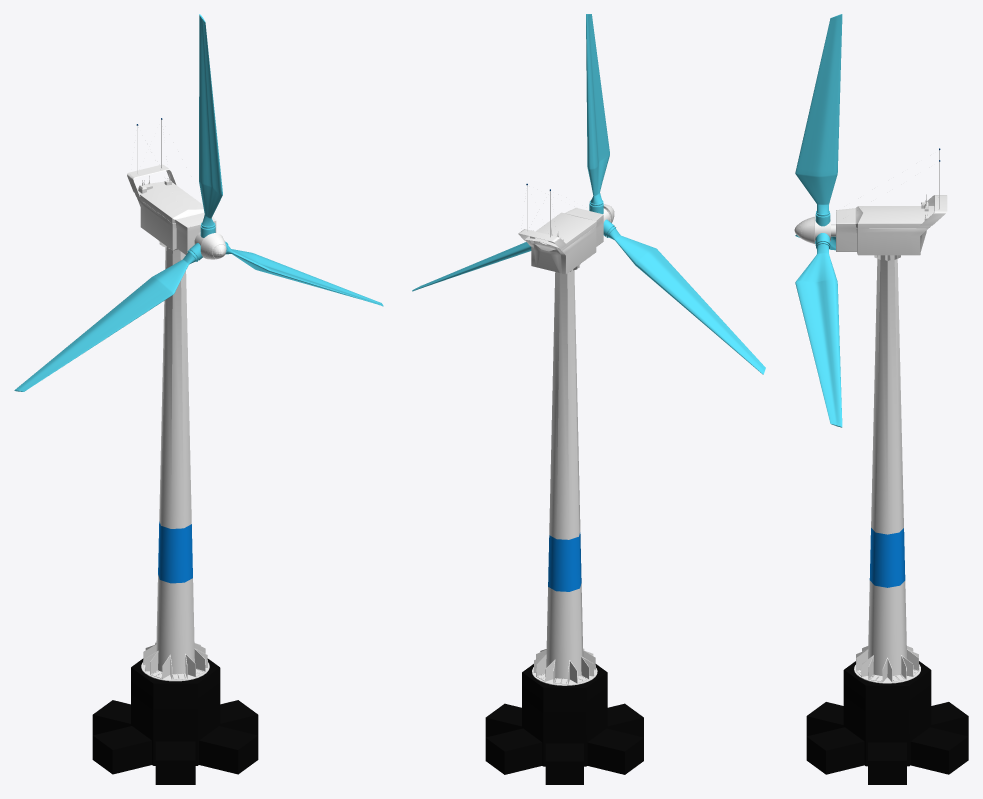
Rendered from turbine.gltf.
The picture shows the model from 3 angles, left to right: view 1: azimuth 30°, elevation 25°; view 2: azimuth 150°, elevation 25°; view 3: azimuth 270°, elevation 25°; orthographic projection. The views are drawn at different scales.
Visible parts, largest first — view 1: Wingen_001-Beton osnova, Wingen_002-Logo wingen, C, B, Wingen_002-Red decal windgen, Wingen_004-Logo wingen, Wingen_006-Logo wingen, A, Wingen_012-Logo wingen; view 2: Wingen_001-Beton osnova, Wingen_002-Logo wingen, C, B, Wingen_004-Logo wingen, Wingen_002-Red decal windgen, Wingen_006-Logo wingen, Wingen_012-Logo wingen, A; view 3: Wingen_001-Beton osnova, Wingen_002-Logo wingen, B, A, Wingen_004-Logo wingen, Wingen_002-Red decal windgen, Wingen_006-Logo wingen, Wingen_012-Logo wingen, Wingen_005-Logo wingen, Wingen_003-Logo wingen.
Boxes of the visible parts, bbox=[...] form: Wingen_001-Beton osnova: bbox=[92, 658, 258, 784]; Wingen_002-Logo wingen: bbox=[141, 246, 209, 681]; C: bbox=[14, 243, 202, 391]; B: bbox=[199, 14, 222, 237]; Wingen_002-Red decal windgen: bbox=[158, 521, 192, 583]; Wingen_004-Logo wingen: bbox=[137, 197, 216, 254]; Wingen_006-Logo wingen: bbox=[135, 181, 204, 223]; A: bbox=[225, 241, 383, 306]; Wingen_012-Logo wingen: bbox=[143, 241, 207, 679]; Wingen_001-Beton osnova: bbox=[485, 664, 643, 784]; Wingen_002-Logo wingen: bbox=[532, 269, 597, 685]; C: bbox=[603, 219, 765, 374]; B: bbox=[586, 14, 609, 213]; Wingen_004-Logo wingen: bbox=[525, 207, 603, 274]; Wingen_002-Red decal windgen: bbox=[548, 532, 581, 591]; Wingen_006-Logo wingen: bbox=[524, 212, 596, 250]; Wingen_012-Logo wingen: bbox=[533, 264, 595, 684]; A: bbox=[412, 242, 531, 291]; Wingen_001-Beton osnova: bbox=[806, 661, 968, 784]; Wingen_002-Logo wingen: bbox=[854, 255, 920, 683]; B: bbox=[795, 14, 842, 226]; A: bbox=[795, 233, 842, 427]; Wingen_004-Logo wingen: bbox=[836, 208, 929, 255]; Wingen_002-Red decal windgen: bbox=[869, 528, 905, 587]; Wingen_006-Logo wingen: bbox=[855, 206, 933, 228]; Wingen_012-Logo wingen: bbox=[856, 255, 919, 682]; Wingen_005-Logo wingen: bbox=[920, 195, 947, 225]; Wingen_003-Logo wingen: bbox=[794, 216, 814, 243].
Bounding box in the file's own units: 157 × 308 × 65.89.
